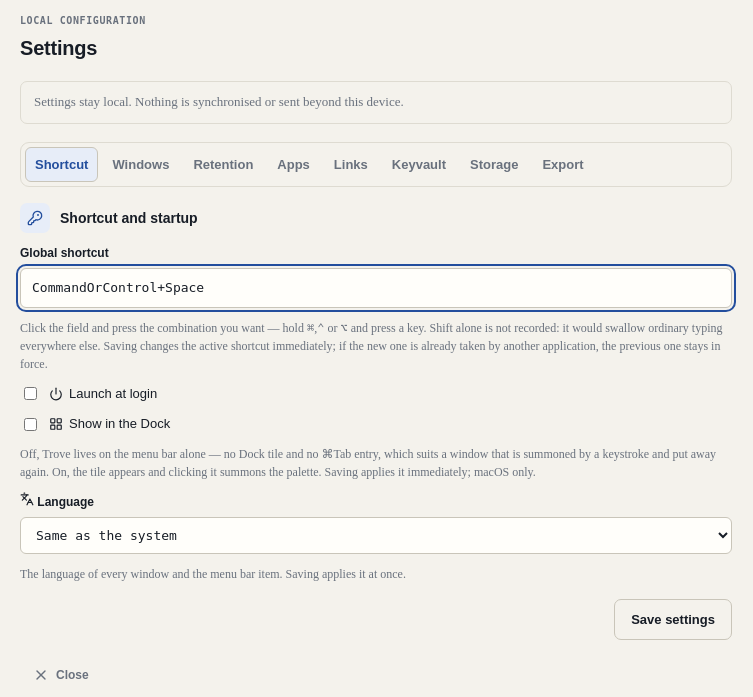
Test: SettingsPanel validation and transactions › rejects retention outside integer 1 through 3650: 0
Click the tab "Retention".
click(223, 165)  # box [183, 147, 263, 182]
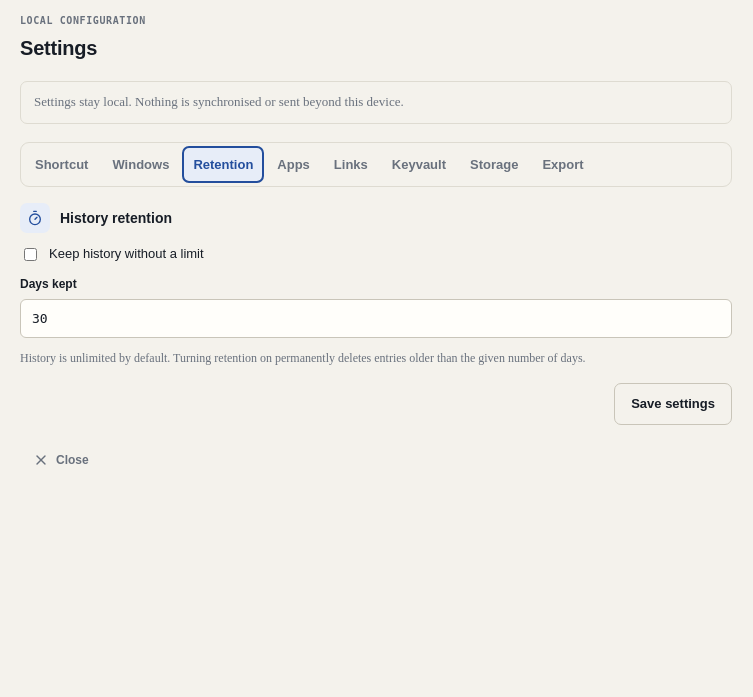
Replace the text in the number field labelled "Days kept" with "0" at x=376, y=319, box [20, 299, 732, 338]
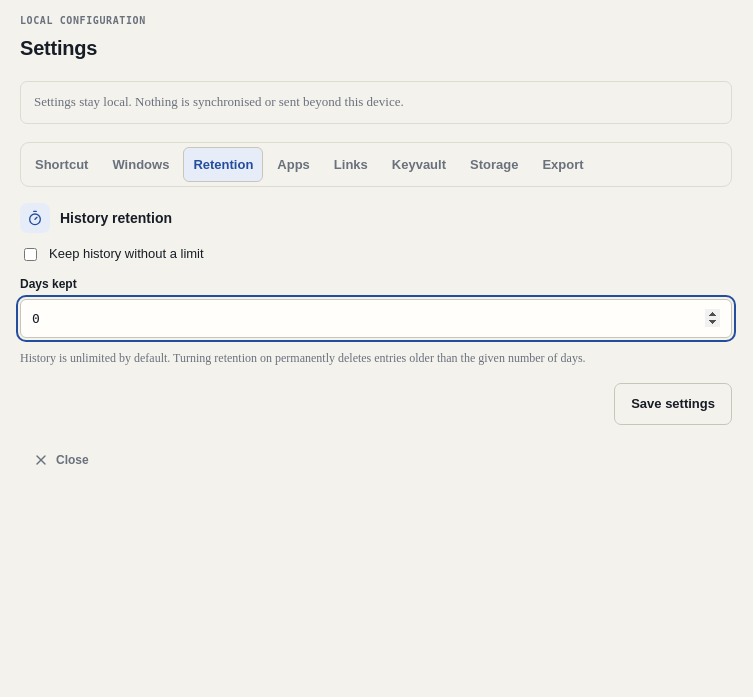
Click the button "Save settings".
click(673, 404)  # box [614, 383, 732, 425]
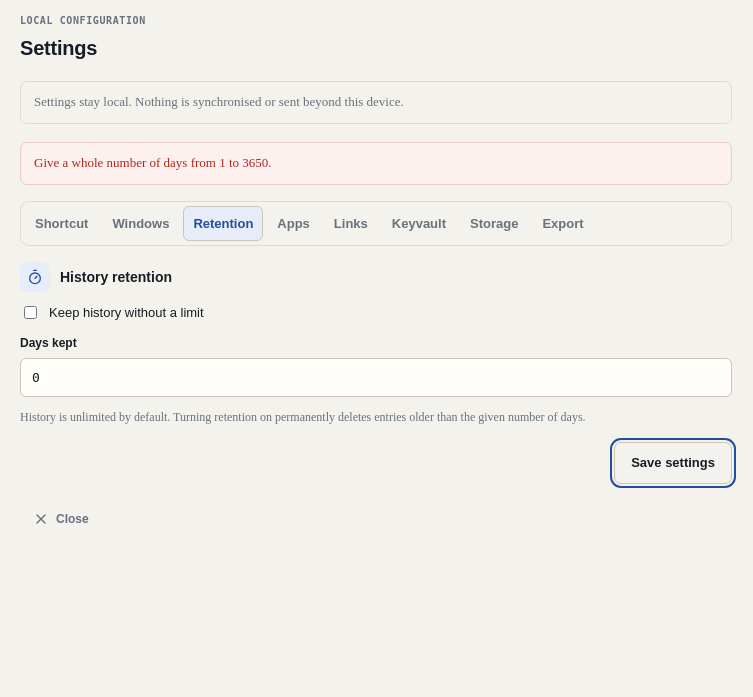
expect the text "Give a whole number of days from 1 to 3650." is shown: met, box [20, 142, 732, 185]
